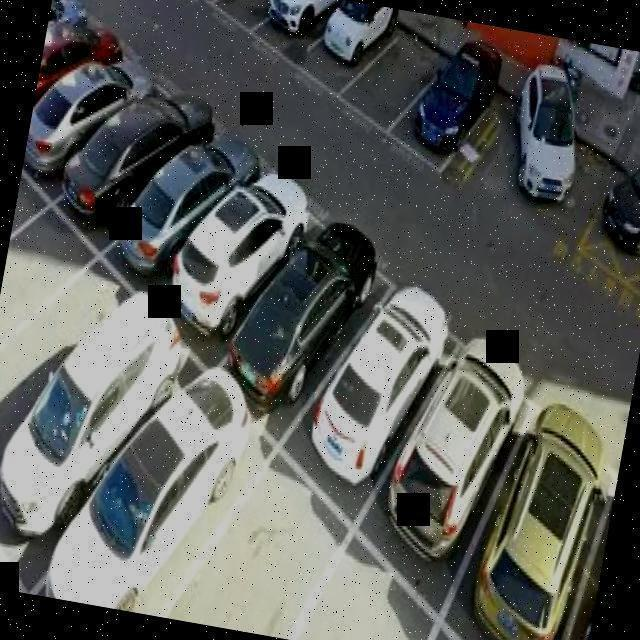Car: (19, 357, 287, 632), (0, 287, 199, 581), (339, 319, 542, 598), (267, 269, 454, 534), (430, 399, 626, 640), (210, 203, 394, 438), (148, 145, 323, 365), (95, 97, 270, 304), (51, 71, 212, 256), (19, 29, 151, 206), (392, 35, 502, 172), (294, 0, 396, 101), (561, 488, 615, 640), (250, 0, 349, 69)
Vacant: (139, 430, 366, 640), (0, 230, 147, 514), (0, 172, 110, 399), (338, 10, 451, 132), (207, 0, 284, 40)
